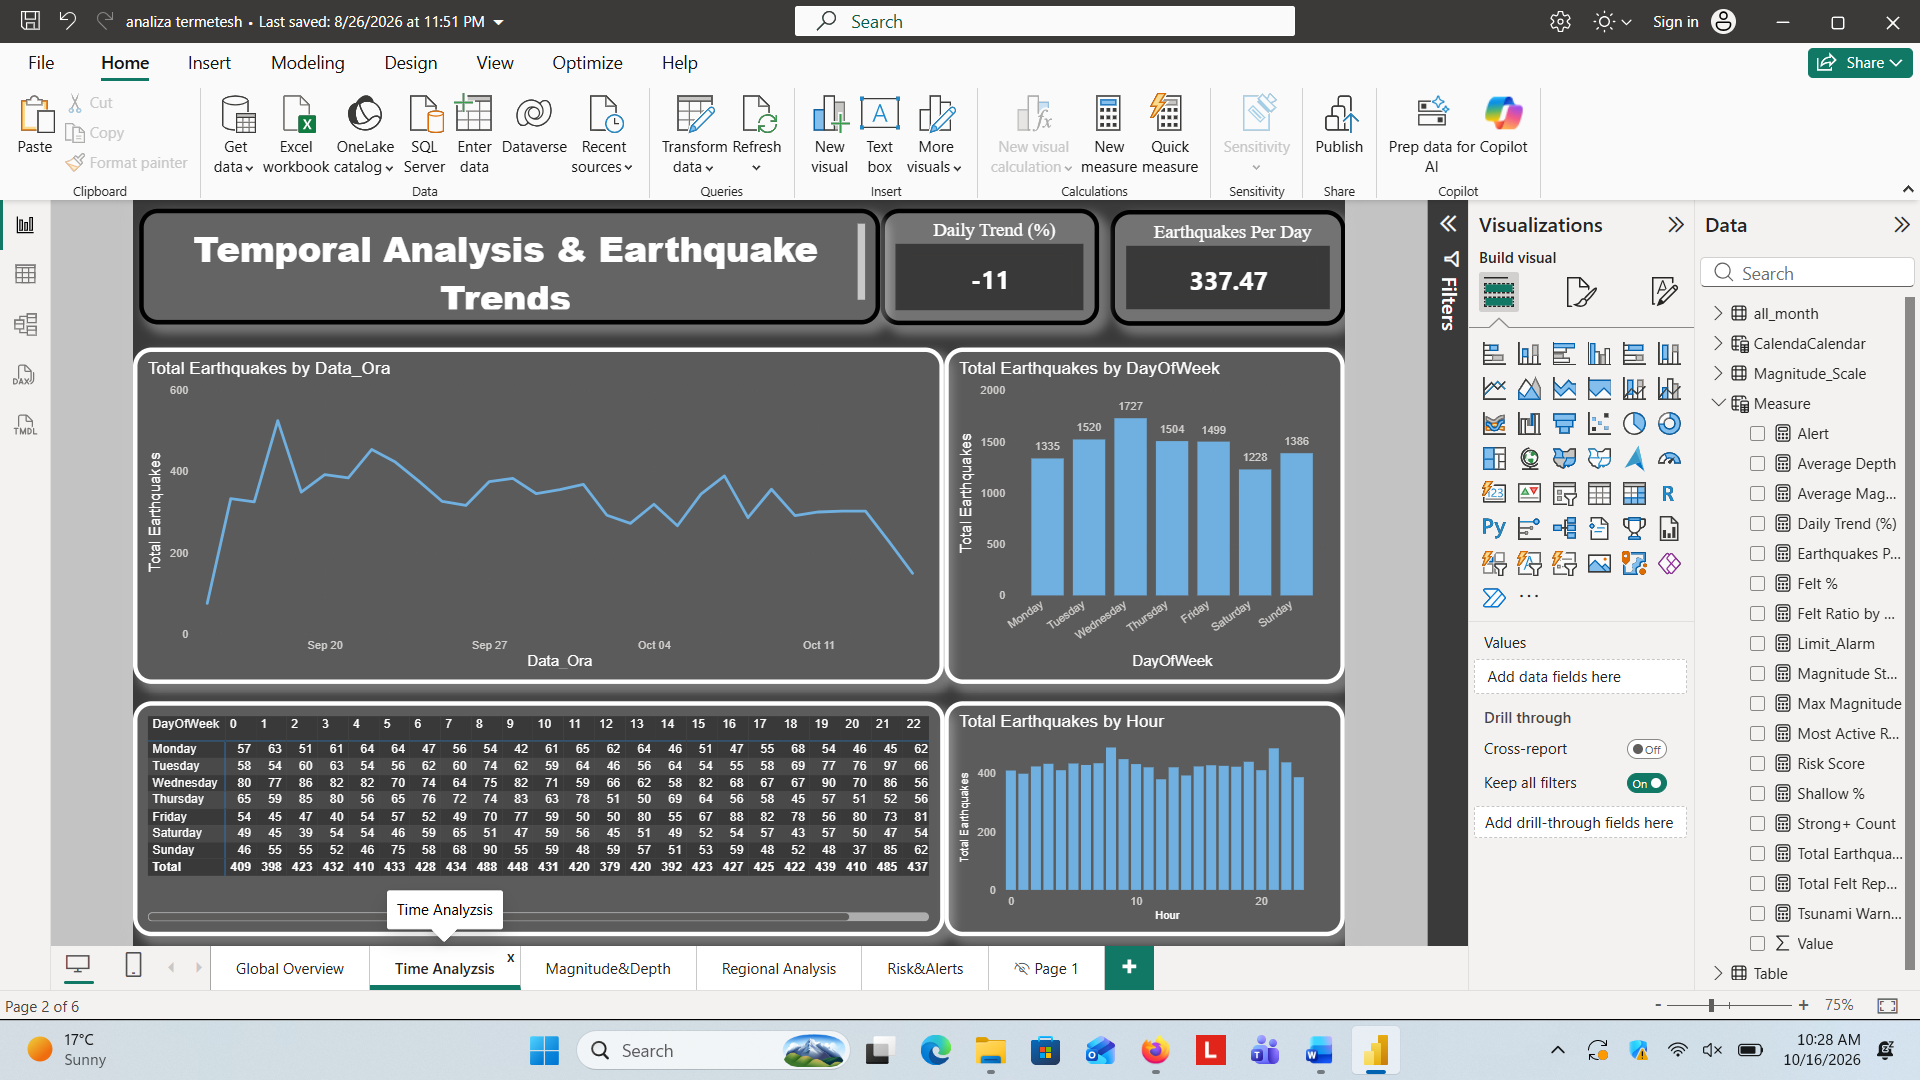

The dashboard page shown, as its layout file describes it:
{"tool":"powerbi","page":{"name":"Time Analyzsis","canvas":[1300,800],"ordinal":1},"visuals":[{"type":"lineChart","fields":{"Category":["all_month.Data_Ora.Variation.Date Hierarchy.Year"],"Y":["Measure.Total Earthquakes"]},"box":[0,158.2,870,360.6],"z":0},{"type":"cardVisual","title":"Earthquakes Per Day","fields":{"Data":["Measure.Earthquakes Per Day"]},"box":[1048,11.1,252.3,124],"z":1000},{"type":"columnChart","fields":{"Category":["all_month.Hour"],"Y":["Measure.Total Earthquakes"]},"box":[870,537.1,430,251.9],"z":2000},{"type":"cardVisual","title":"Daily Trend (%)","fields":{"Data":["Measure.Daily Trend (%)"]},"box":[801.6,9.4,234.6,124.7],"z":3000},{"type":"clusteredColumnChart","fields":{"Category":["all_month.DayOfWeek"],"Y":["Measure.Total Earthquakes"]},"box":[870,157.8,430,360.5],"z":4000},{"type":"pivotTable","fields":{"Columns":["all_month.Hour"],"Rows":["all_month.DayOfWeek"],"Values":["Measure.Total Earthquakes"]},"box":[0,537.1,870,251.9],"z":5000},{"type":"textbox","box":[7,9.8,794.4,124],"z":6000}]}

Visuals, with their boxes on the page's 1300x800 design canvas (x1, y1, x2, y2). These are canvas units, not pixel positions in the 1920x1080 screenshot, which may show the page scaled, cropped or inside an application window:
lineChart - all_month.Data_Ora.Variation.Date Hierarchy.Year x Measure.Total Earthquakes: pyautogui.locateOnScreen(0, 158, 870, 519)
"Earthquakes Per Day" cardVisual: pyautogui.locateOnScreen(1048, 11, 1300, 135)
columnChart - all_month.Hour x Measure.Total Earthquakes: pyautogui.locateOnScreen(870, 537, 1300, 789)
"Daily Trend (%)" cardVisual: pyautogui.locateOnScreen(802, 9, 1036, 134)
clusteredColumnChart - all_month.DayOfWeek x Measure.Total Earthquakes: pyautogui.locateOnScreen(870, 158, 1300, 518)
pivotTable - all_month.Hour x all_month.DayOfWeek: pyautogui.locateOnScreen(0, 537, 870, 789)
textbox: pyautogui.locateOnScreen(7, 10, 801, 134)
